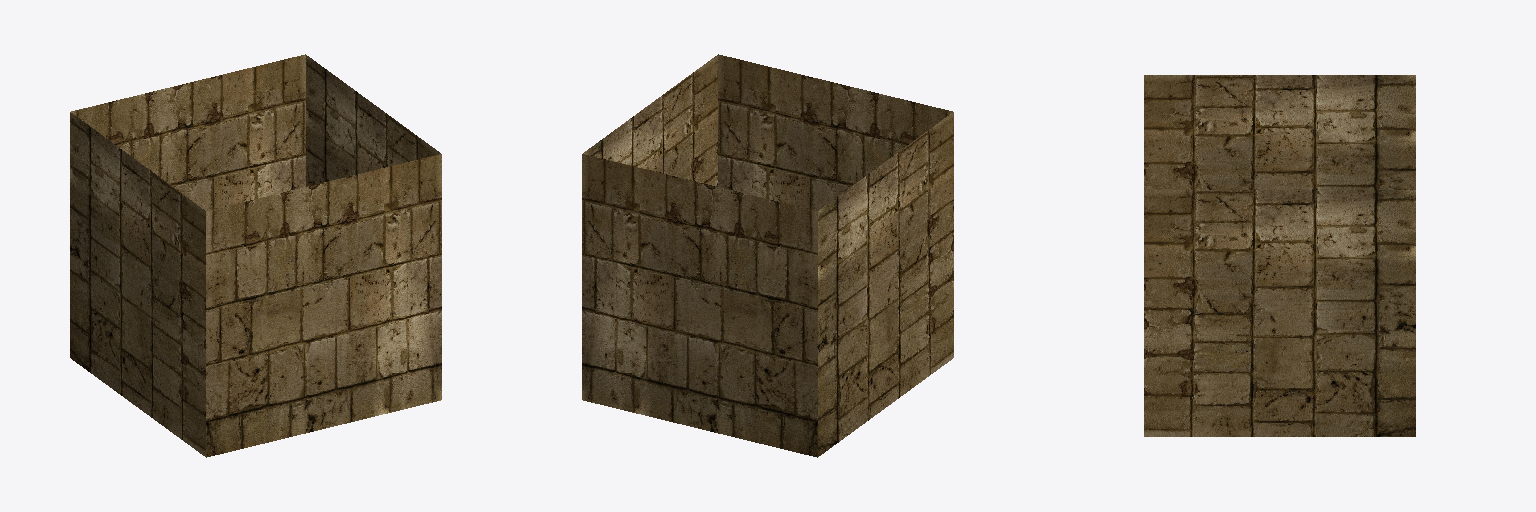
3 renders of one model, left to right at view 1: azimuth 30°, elevation 25°; view 2: azimuth 150°, elevation 25°; view 3: azimuth 270°, elevation 25°, orthographic.
Parts seen in each view (by area): view 1: mesh01; view 2: mesh01; view 3: mesh01.
Part boxes in pixels (left/top/right/bottom): mesh01: left=70, top=54, right=441, bottom=457; mesh01: left=582, top=54, right=953, bottom=457; mesh01: left=1144, top=75, right=1415, bottom=436.
Bounding box in the file's own units: 80 × 80 × 80.
2 materials, 2 textured.